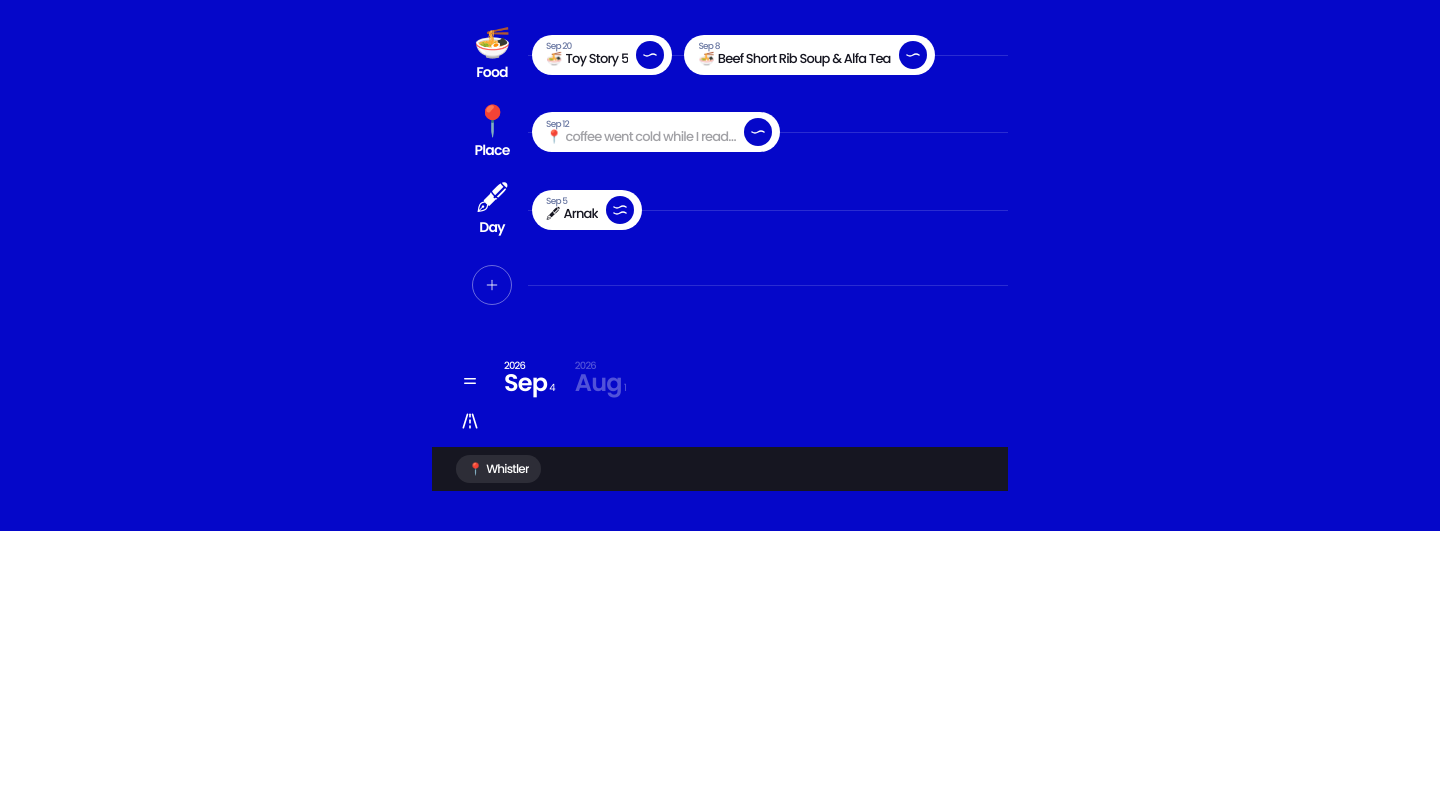
it: lane rows › ends with the seat of a new lane on an empty rope, which opens the lane sheet
Step 1. Click the button named "New lane" → coordinates (492, 284), box [472,264,512,304]
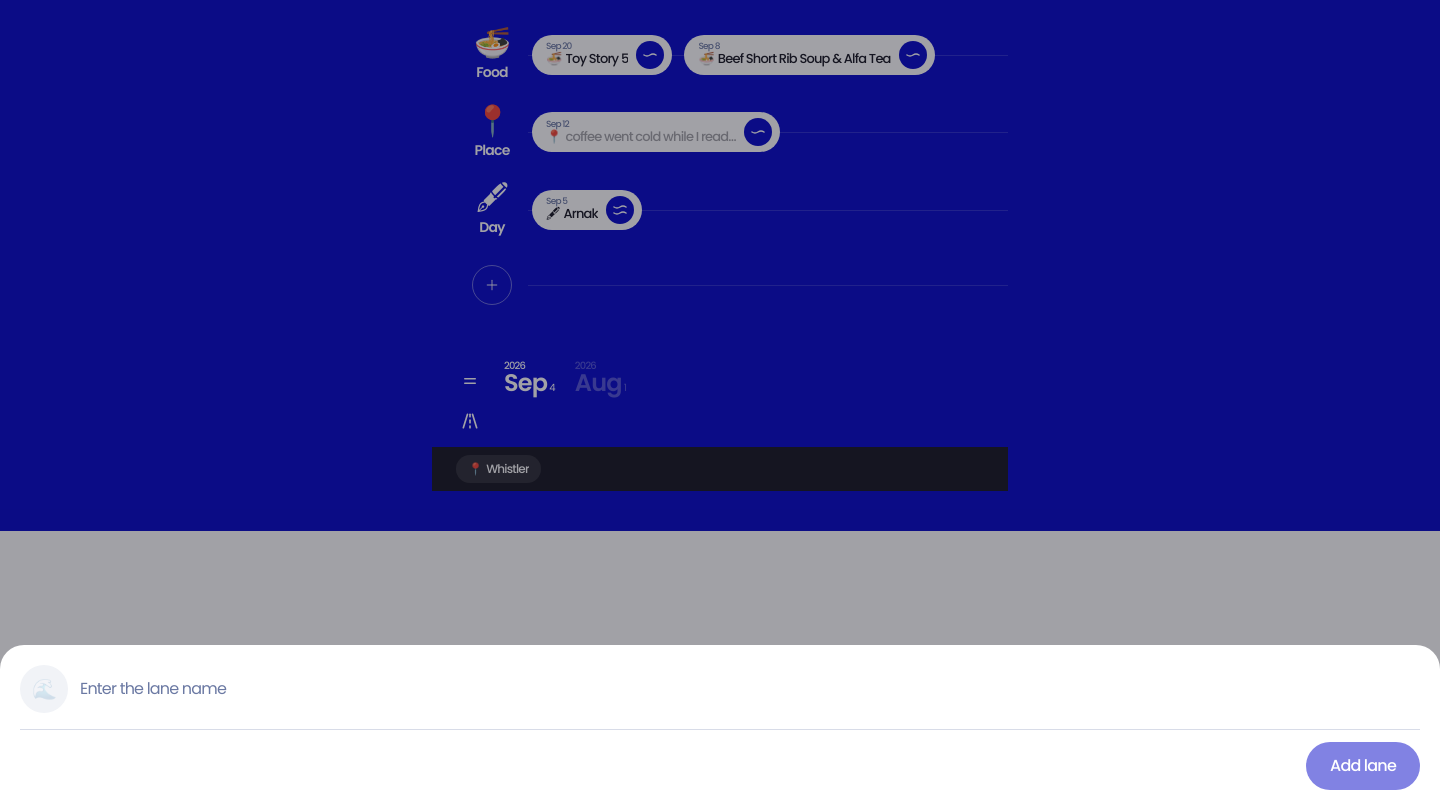
Expected: the dialog named "New lane" is shown, [0,645,1439,809]
